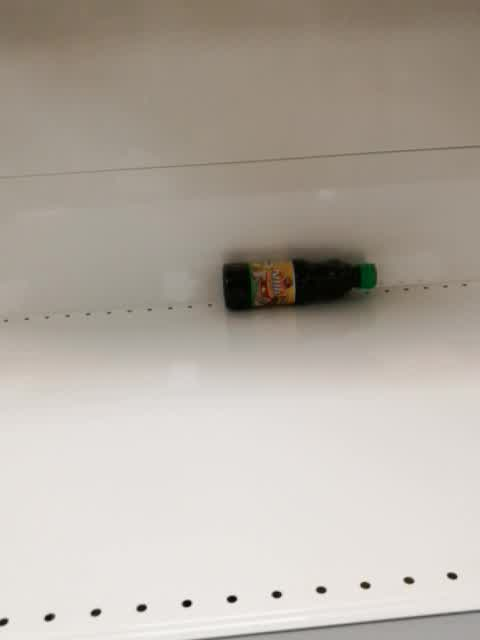cookingoil: (221, 256, 380, 313)
